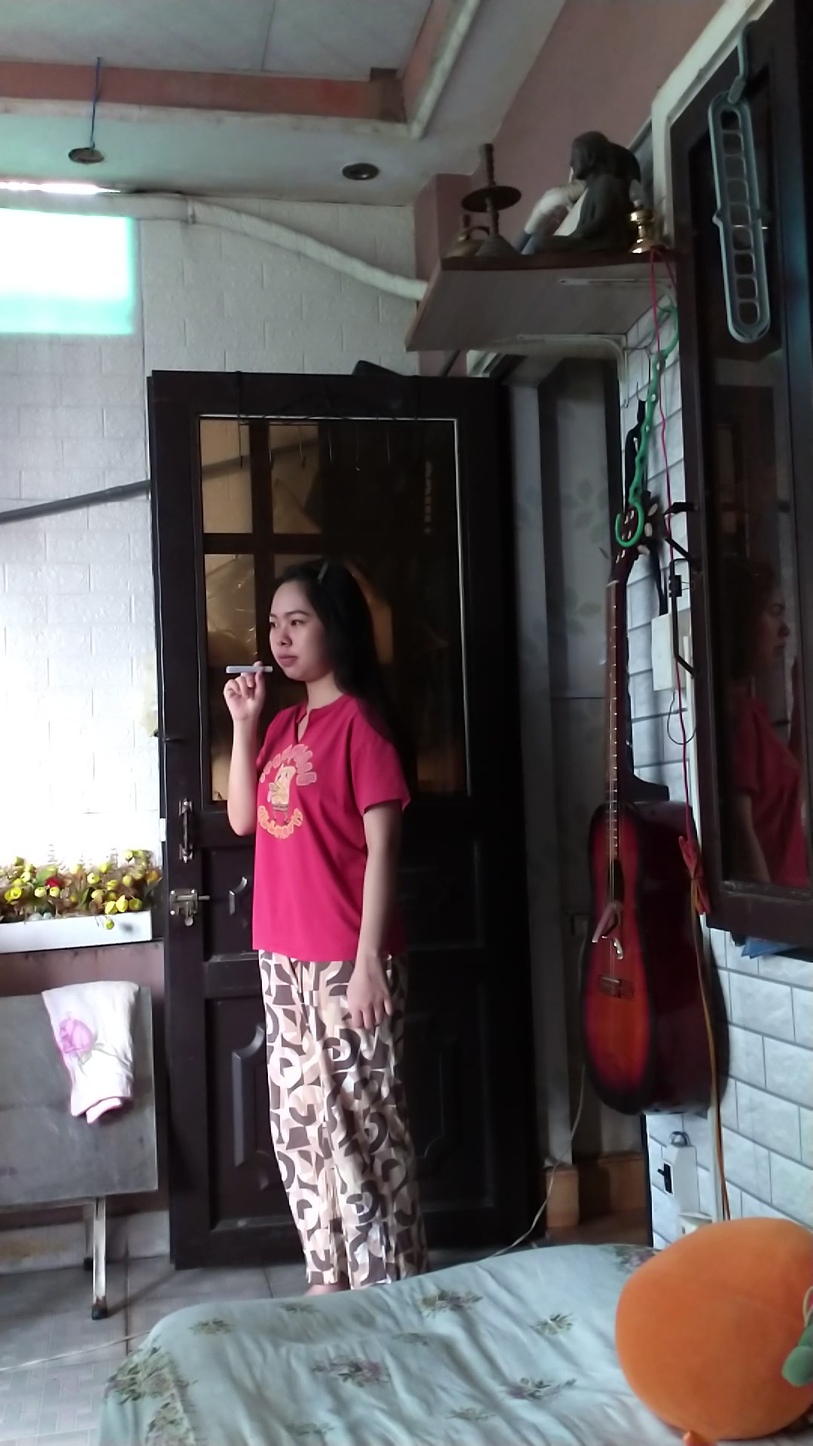cigarette: (221, 660, 275, 679)
person: (224, 551, 414, 1294)
